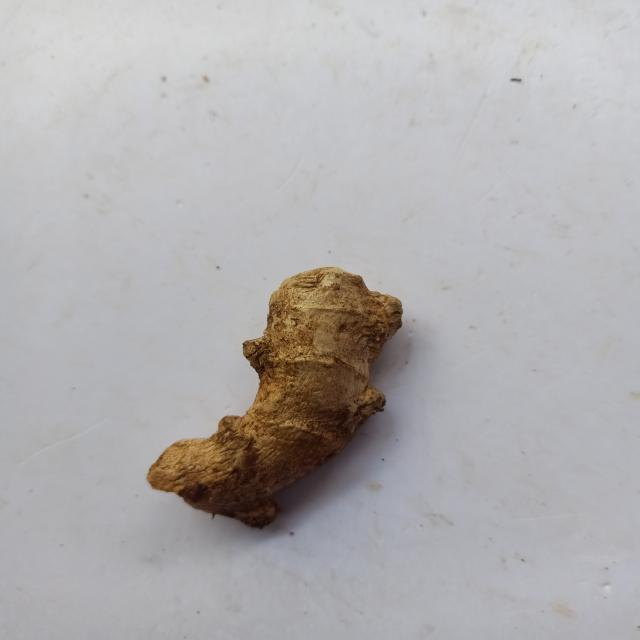Ginger: (147, 267, 402, 528)
